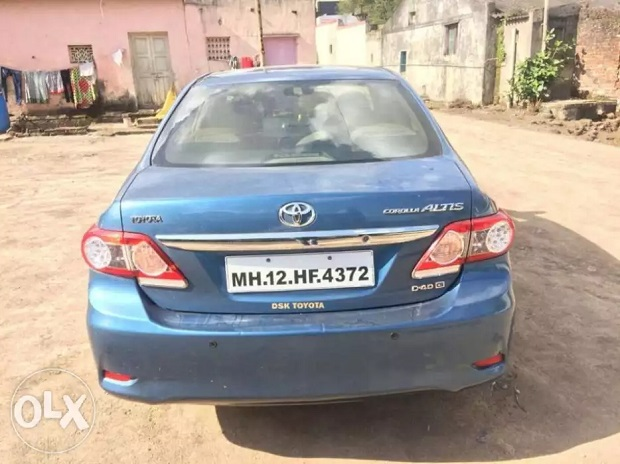licenseplate: (225, 251, 379, 291)
